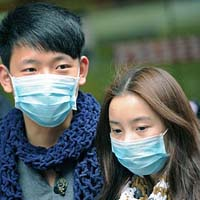face_mask: (11, 35, 77, 126), (108, 96, 166, 173)
